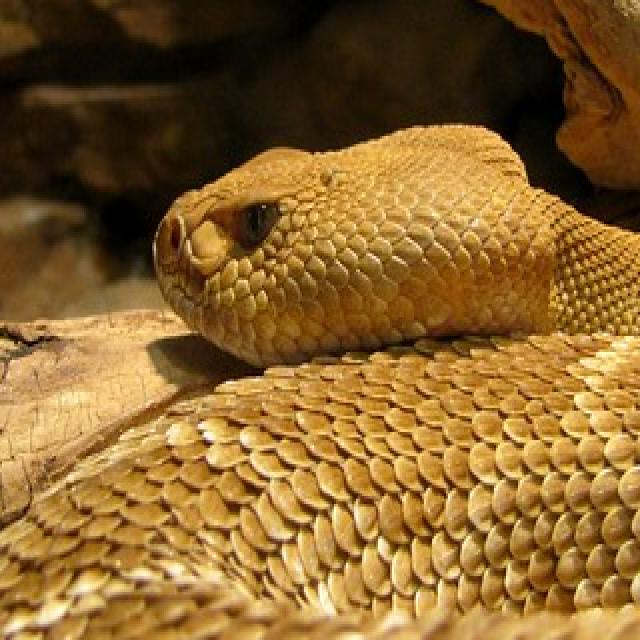Snake: (0, 117, 640, 640)
